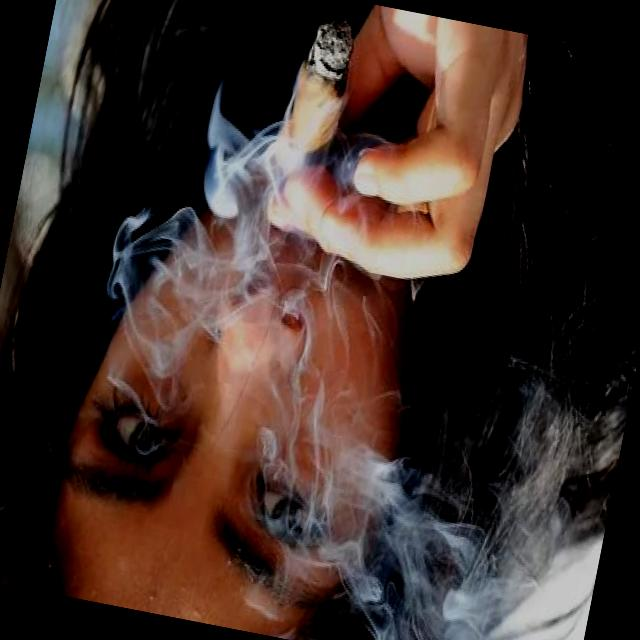cigarette: (268, 2, 364, 215)
